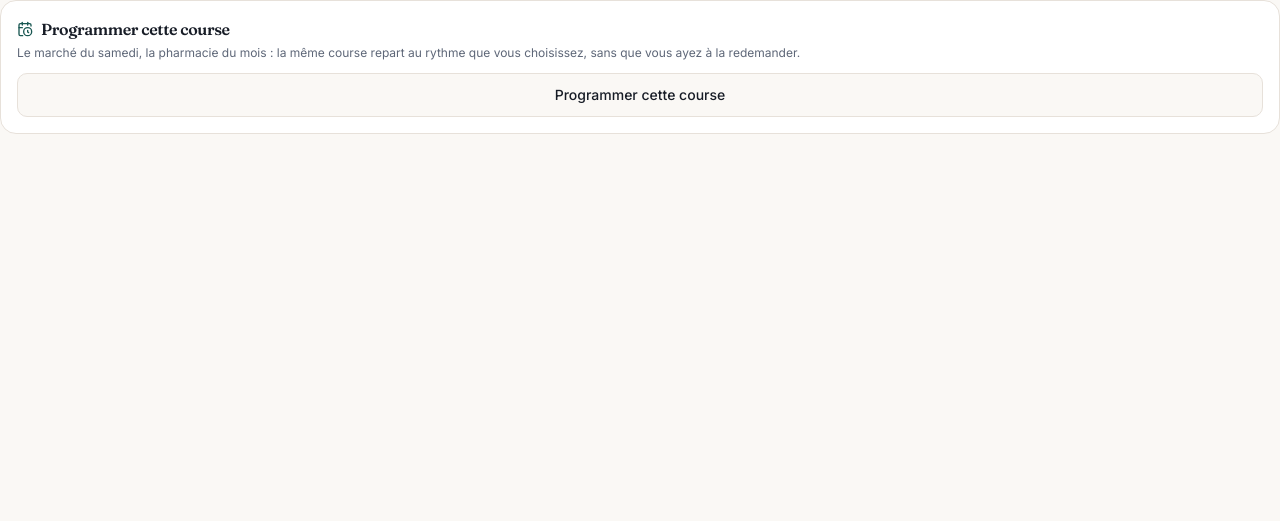
it: programmation d'une course › ouvre au client le contrôle qui manquait, avec le titre de sa course
Click the button "Programmer cette course": (640, 95) [17,73,1263,117]
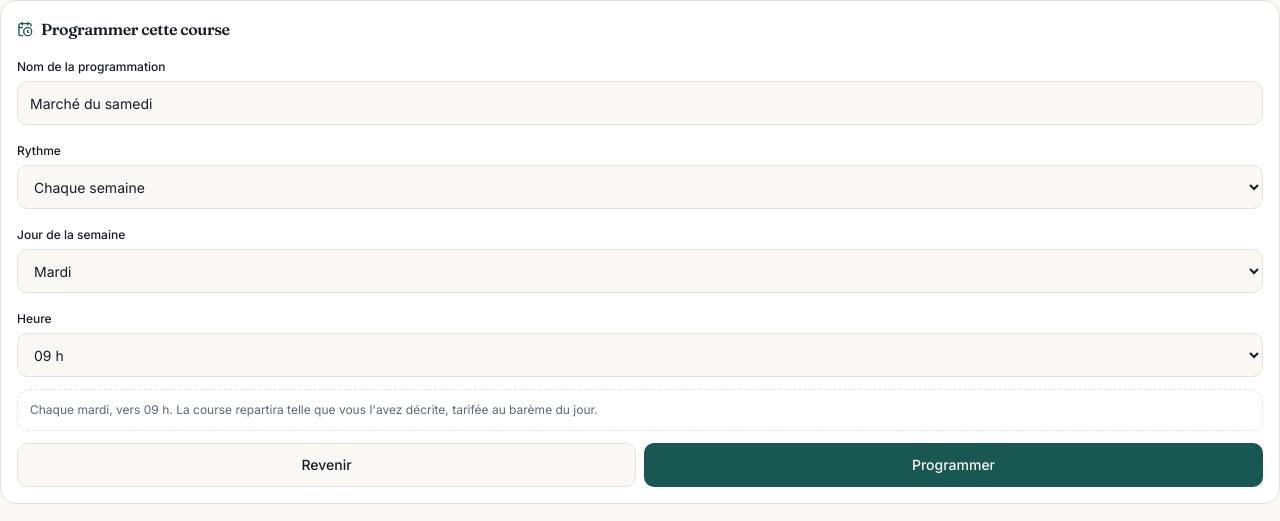
Check: the button "Programmer" is enabled, box [644,443,1263,487]
Check: the field labelled "Nom de la programmation" holds "Marché du samedi", box [17,81,1263,125]
Check: the dropdown labelled "Rythme" is shown, box [17,165,1263,209]
